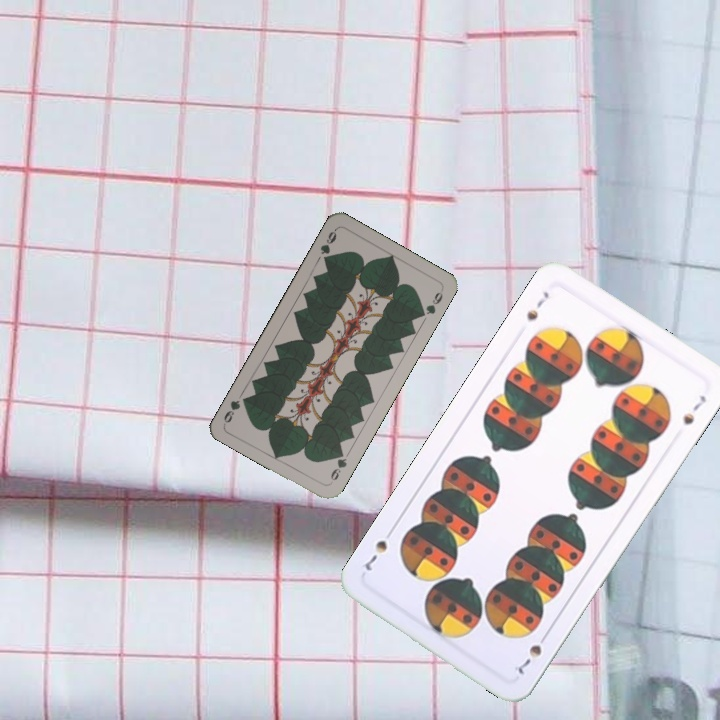G9: (316, 225, 339, 266), (326, 446, 349, 486)
S7: (513, 628, 552, 677), (522, 287, 552, 324)
